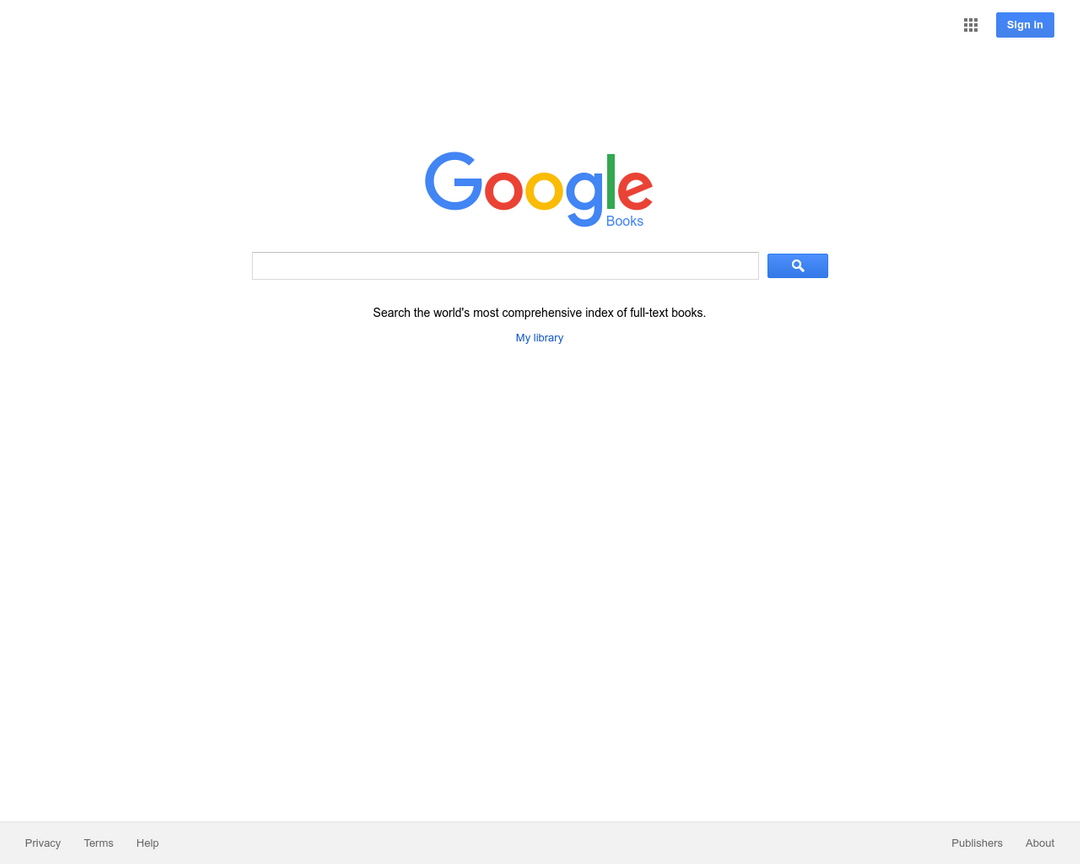Google: (418, 143, 656, 233)
